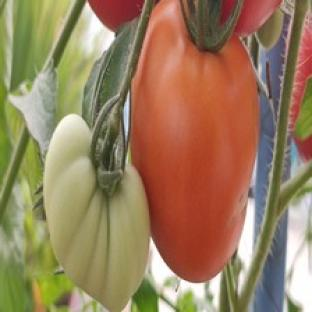Tomato: (44, 115, 150, 311), (290, 14, 311, 160), (257, 9, 284, 50)
